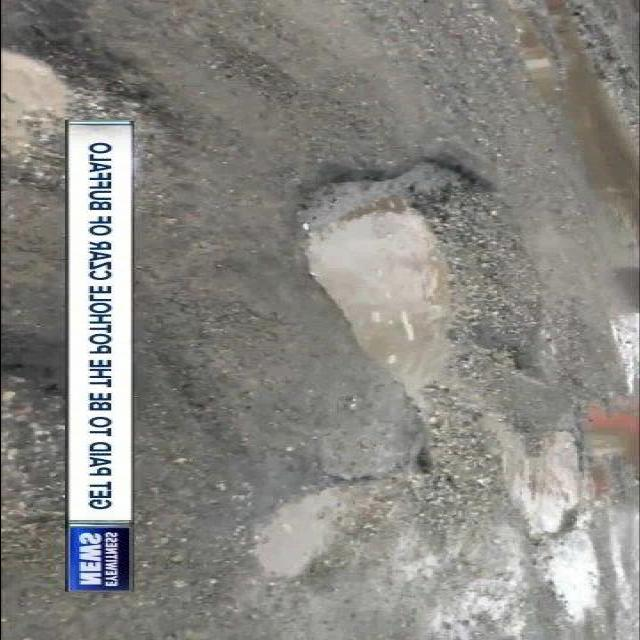lubang: (295, 149, 535, 434), (505, 2, 640, 390), (247, 444, 445, 597), (486, 415, 598, 552), (420, 538, 566, 640), (0, 328, 60, 536), (502, 0, 582, 127), (568, 371, 640, 509), (532, 511, 614, 631), (579, 481, 640, 630), (0, 32, 61, 168)
